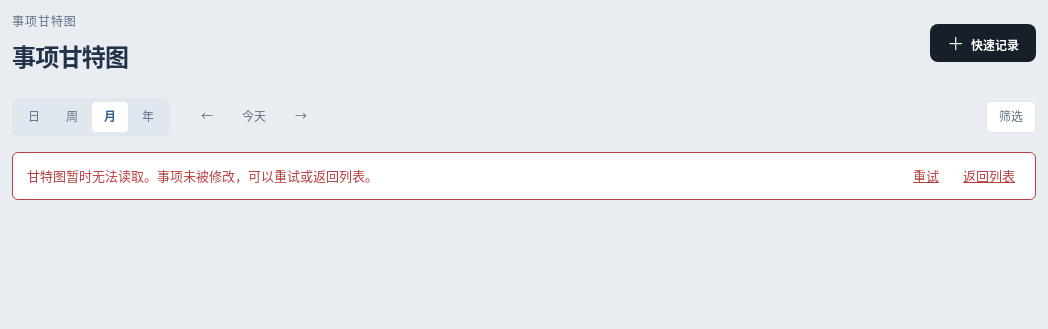
Test: TimelineView › 首次读取失败说明数据未改变，不暴露技术详情，重试可恢复
Check: the text "甘特图暂时无法读取。事项未被修改，可以重试或返回列表。" is shown, box x1=27 y1=166 x2=378 y2=185
Click the button "重试": (926, 176) x1=907 y1=165 x2=945 y2=187
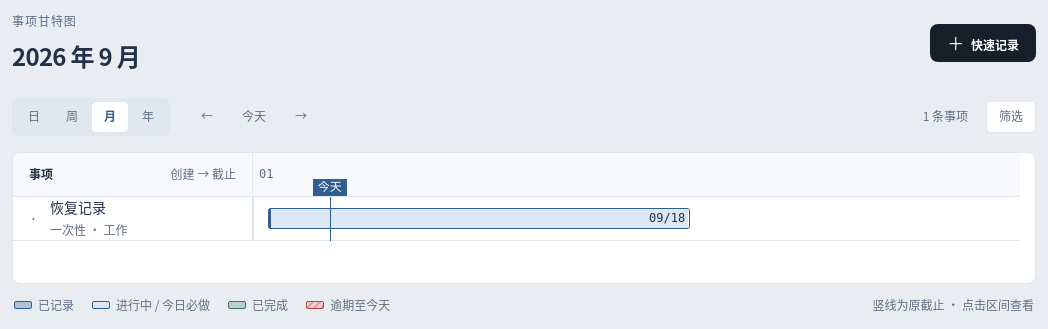
Check: the text "恢复记录" is shown, box x1=50 y1=197 x2=106 y2=217
